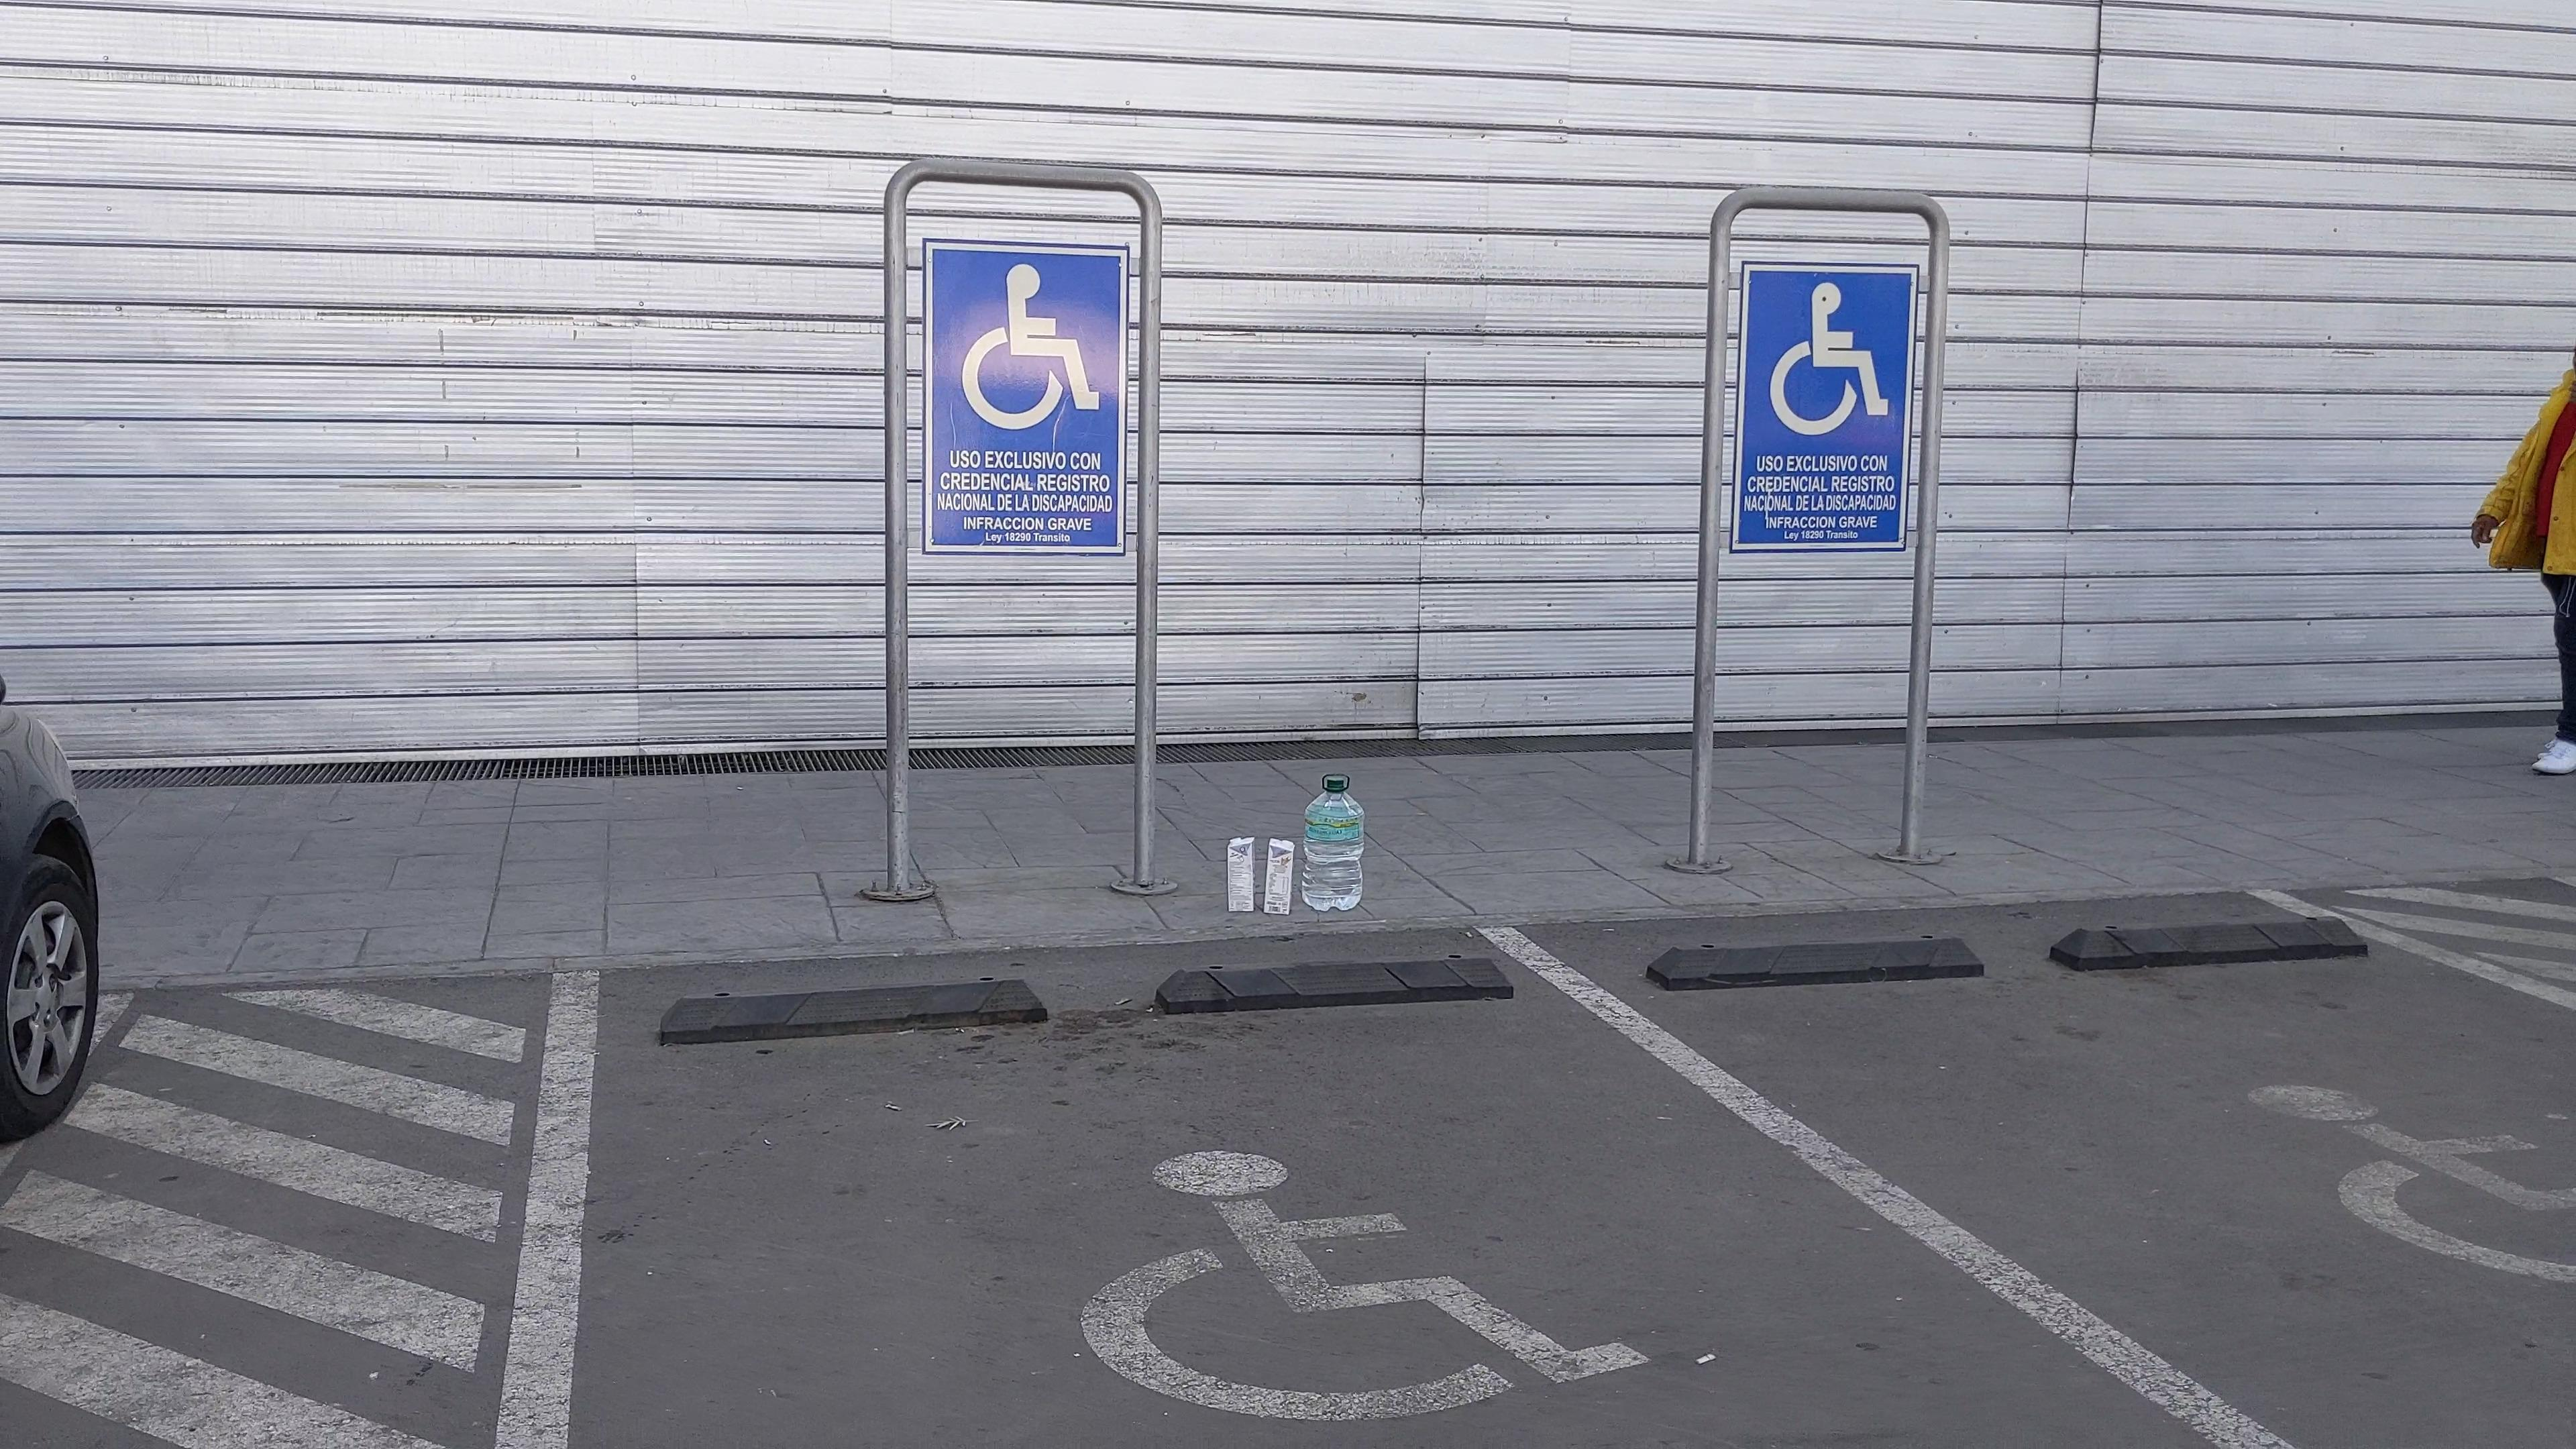handicapped symbol: (1079, 1145, 1651, 1433), (961, 262, 1102, 433), (1767, 280, 1891, 437)
